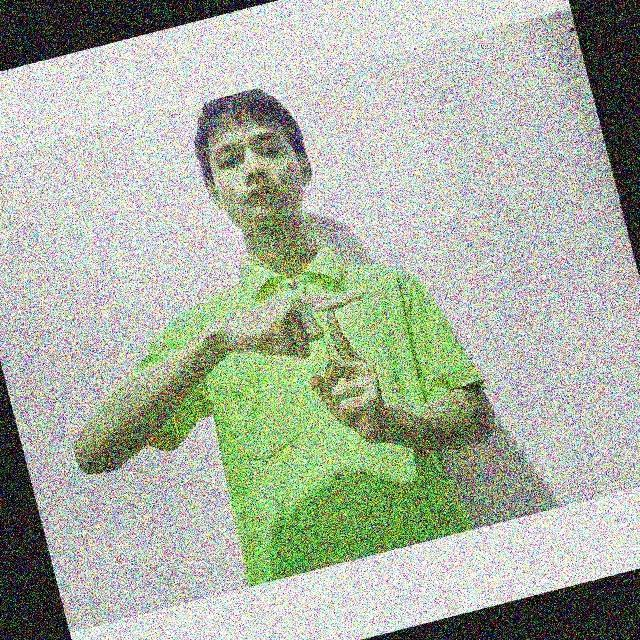T: (218, 274, 400, 460)
